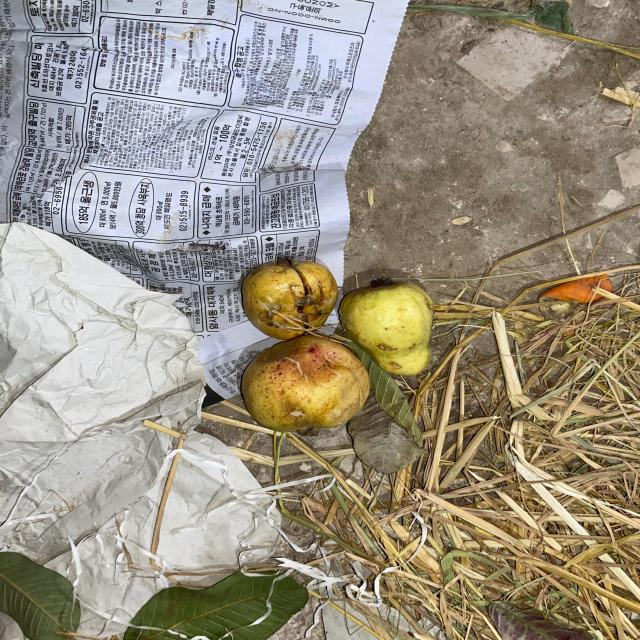paper: (411, 438, 604, 568), (129, 562, 309, 640), (214, 246, 342, 341), (2, 513, 91, 640), (241, 342, 372, 428), (347, 272, 448, 372), (546, 270, 607, 309)
